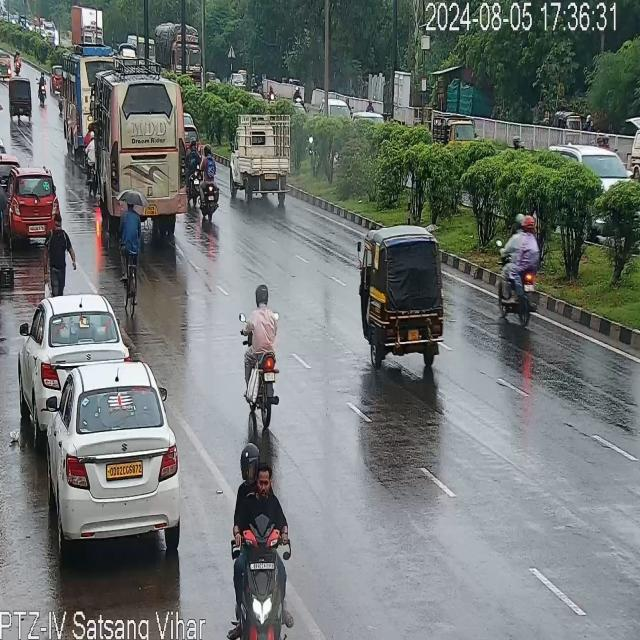2-wheelers: (228, 432, 288, 640), (244, 287, 280, 426), (499, 258, 550, 328), (191, 150, 223, 220), (38, 73, 50, 107)
auto: (358, 234, 452, 366), (432, 114, 482, 147), (7, 76, 38, 120)
bus: (98, 74, 182, 212)
car: (29, 362, 182, 550), (24, 296, 120, 402), (550, 143, 630, 211), (8, 174, 62, 238), (314, 92, 354, 134)
pedestrian: (116, 198, 148, 268), (48, 216, 72, 300)
truck: (230, 114, 297, 204), (63, 51, 103, 162), (151, 20, 207, 82), (70, 5, 108, 52)
